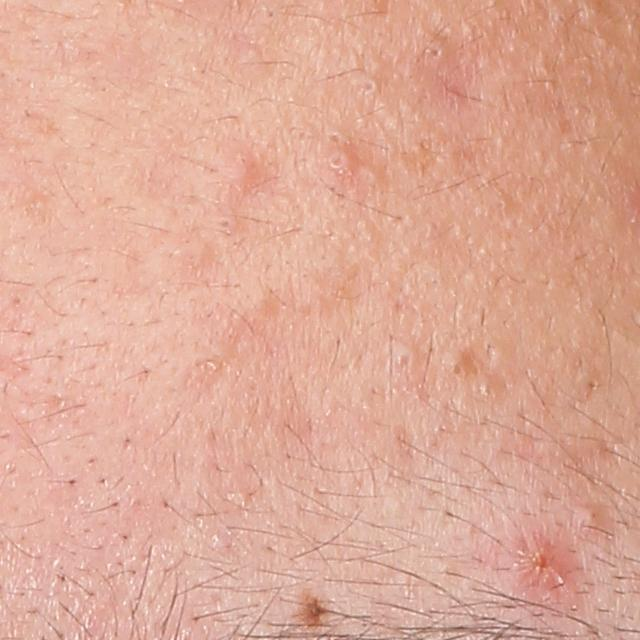comedo: (575, 367, 606, 395), (442, 352, 466, 379)
papule: (526, 542, 568, 595), (225, 144, 261, 186)
